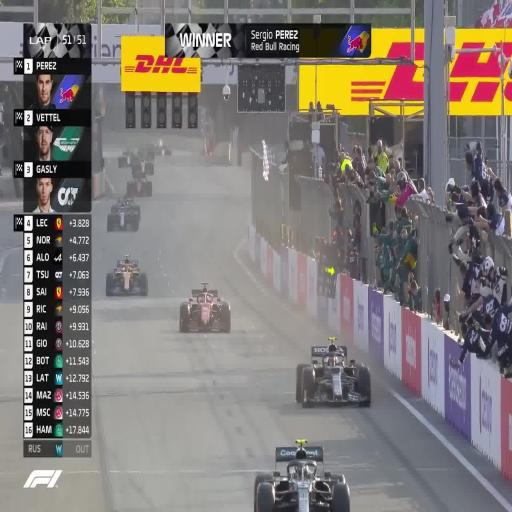f1_car: (254, 440, 350, 511), (296, 338, 371, 406), (179, 282, 230, 332), (105, 255, 147, 296), (118, 140, 172, 168), (107, 197, 140, 231), (125, 161, 154, 197)
